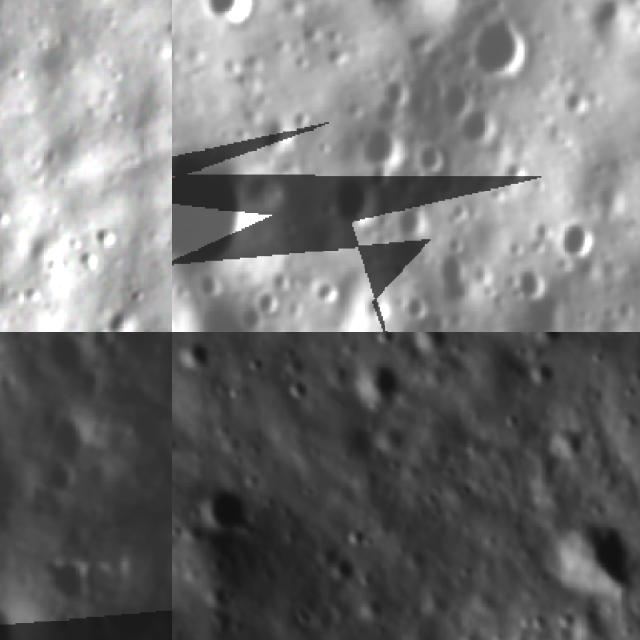crater: (525, 496, 640, 632), (172, 150, 248, 281), (188, 474, 268, 554), (344, 349, 416, 420), (467, 10, 531, 81), (328, 169, 386, 234), (41, 548, 95, 615), (49, 410, 100, 465), (80, 549, 126, 608), (437, 240, 480, 303), (546, 215, 597, 268), (453, 104, 502, 156), (172, 332, 224, 380), (357, 118, 408, 165), (41, 332, 92, 379), (508, 257, 555, 305), (430, 79, 476, 126), (388, 194, 433, 241), (413, 139, 456, 186), (322, 550, 367, 594), (198, 0, 262, 30), (278, 370, 322, 413), (40, 455, 82, 497), (336, 517, 376, 557), (526, 355, 566, 395), (558, 82, 596, 118), (120, 332, 172, 355), (396, 290, 433, 322), (253, 282, 285, 318), (310, 274, 344, 304), (529, 332, 573, 349), (235, 305, 262, 332)
